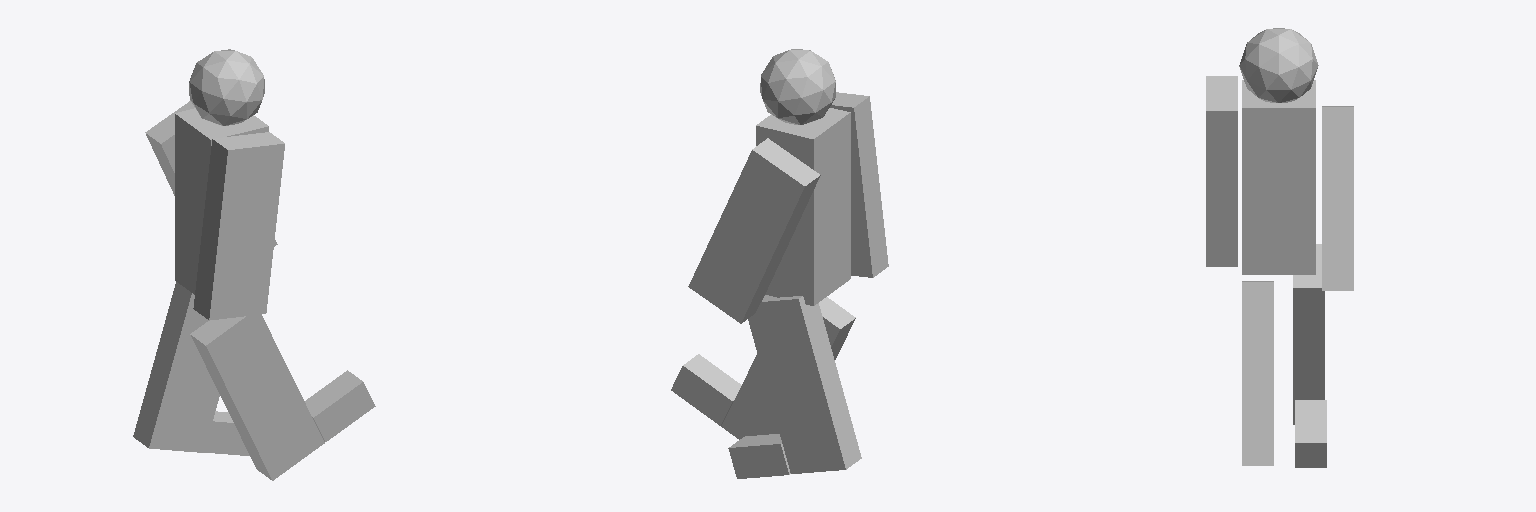
Rendered from player_000014.obj.
3 renders of one model, left to right at view 1: azimuth 30°, elevation 25°; view 2: azimuth 150°, elevation 25°; view 3: azimuth 270°, elevation 25°, orthographic.
Parts seen in each view (by area): view 1: Cube.013, Cube.010, Cube.008, Cube.007, Icosphere.001, Cube.011, Cube.012, Cube.009; view 2: Cube.008, Cube.012, Cube.007, Cube.013, Icosphere.001, Cube.010, Cube.011, Cube.009; view 3: Cube.007, Cube.013, Cube.012, Cube.010, Icosphere.001, Cube.008, Cube.009, Cube.011.
Part boxes in pixels (left/top/right/bottom): Cube.013: left=193, top=132, right=284, bottom=320; Cube.010: left=190, top=314, right=324, bottom=480; Cube.008: left=133, top=282, right=219, bottom=452; Cube.007: left=175, top=108, right=268, bottom=294; Icosphere.001: left=189, top=49, right=264, bottom=125; Cube.011: left=305, top=370, right=375, bottom=441; Cube.012: left=145, top=101, right=277, bottom=246; Cube.009: left=204, top=411, right=249, bottom=455; Cube.008: left=748, top=295, right=861, bottom=473; Cube.012: left=688, top=138, right=820, bottom=323; Cube.007: left=756, top=108, right=850, bottom=305; Cube.013: left=830, top=92, right=888, bottom=277; Icosphere.001: left=760, top=49, right=835, bottom=124; Cube.010: left=721, top=297, right=855, bottom=439; Cube.011: left=671, top=354, right=741, bottom=425; Cube.009: left=728, top=434, right=790, bottom=478; Cube.007: left=1242, top=80, right=1315, bottom=274; Cube.013: left=1206, top=76, right=1237, bottom=266; Cube.012: left=1322, top=106, right=1353, bottom=290; Cube.010: left=1242, top=281, right=1273, bottom=431; Icosphere.001: left=1239, top=28, right=1318, bottom=102; Cube.008: left=1293, top=244, right=1324, bottom=424; Cube.009: left=1295, top=400, right=1326, bottom=467; Cube.011: left=1242, top=432, right=1273, bottom=465.
Bounding box in the file's own units: 1.43 × 2.87 × 0.9137.